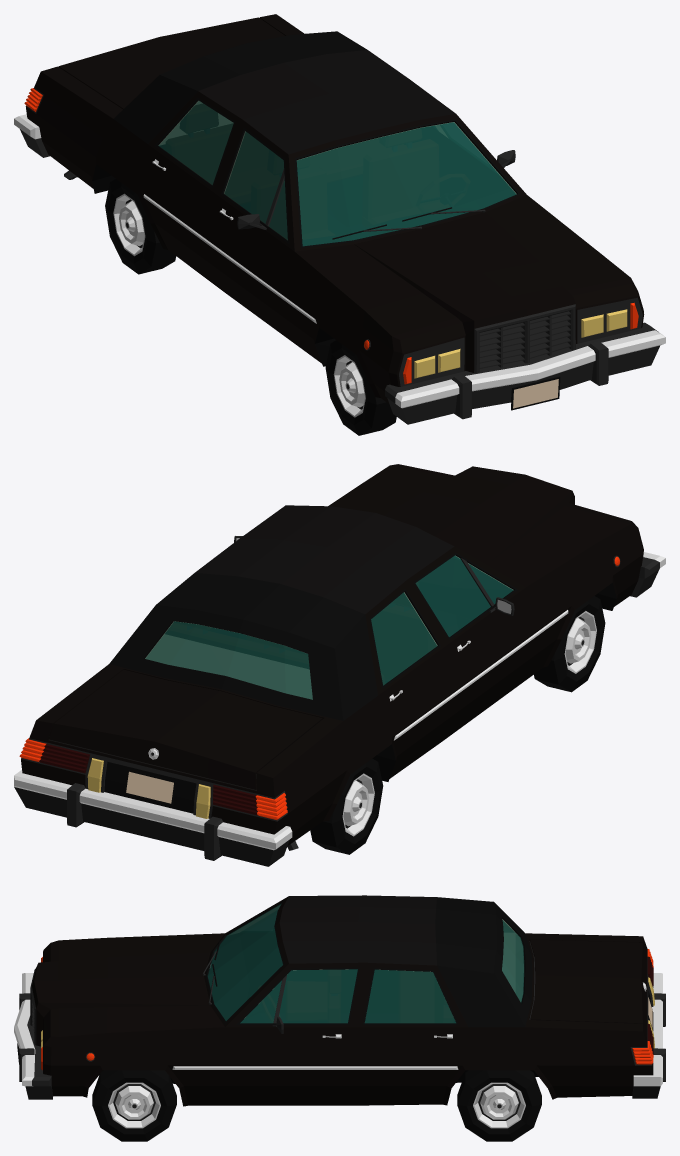
Rendered from Sedan_04.FBX.
3 views of the same model, one above another, from view 1: azimuth 30°, elevation 25°; view 2: azimuth 150°, elevation 25°; view 3: azimuth 270°, elevation 25° (orthographic). The views are drawn at different scales.
Visible parts, largest first — view 1: Sedan_04, interior, bumper_f, wheel_f_r, wheel_b_r, grill, headLights, licensePlate_f, bumper_b; view 2: Sedan_04, interior, bumper_b, wheel_b_r, wheel_f_r, tailLights, licensePlate_b, backupLights, bumper_f, indicatorLights_r; view 3: Sedan_04, interior, wheel_b_l, wheel_f_l, bumper_f, bumper_b, indicatorLights_l.
Boxes of the visible parts, box(x1,y1,x2,y2) form: Sedan_04: box(25, 14, 644, 404); interior: box(158, 101, 516, 245); bumper_f: box(385, 322, 665, 424); wheel_f_r: box(325, 340, 396, 435); wheel_b_r: box(105, 179, 176, 274); grill: box(479, 311, 570, 368); headLights: box(414, 309, 627, 378); licensePlate_f: box(511, 376, 560, 410); bumper_b: box(14, 114, 49, 157); Sedan_04: box(21, 464, 643, 845); interior: box(145, 555, 512, 699); bumper_b: box(14, 770, 292, 866); wheel_b_r: box(310, 758, 383, 854); wheel_f_r: box(534, 596, 605, 692); tailLights: box(39, 744, 257, 815); licensePlate_b: box(124, 769, 176, 805); backupLights: box(87, 758, 210, 818); bumper_f: box(630, 552, 665, 597); indicatorLights_r: box(255, 556, 619, 819); Sedan_04: box(30, 895, 653, 1106); interior: box(208, 905, 523, 1022); wheel_b_l: box(457, 1070, 541, 1141); wheel_f_l: box(92, 1070, 176, 1141); bumper_f: box(14, 973, 52, 1099); bumper_b: box(632, 973, 665, 1098); indicatorLights_l: box(41, 1041, 653, 1070).
Bounding box in the file's own units: 26.94 × 19.4 × 66.12.
